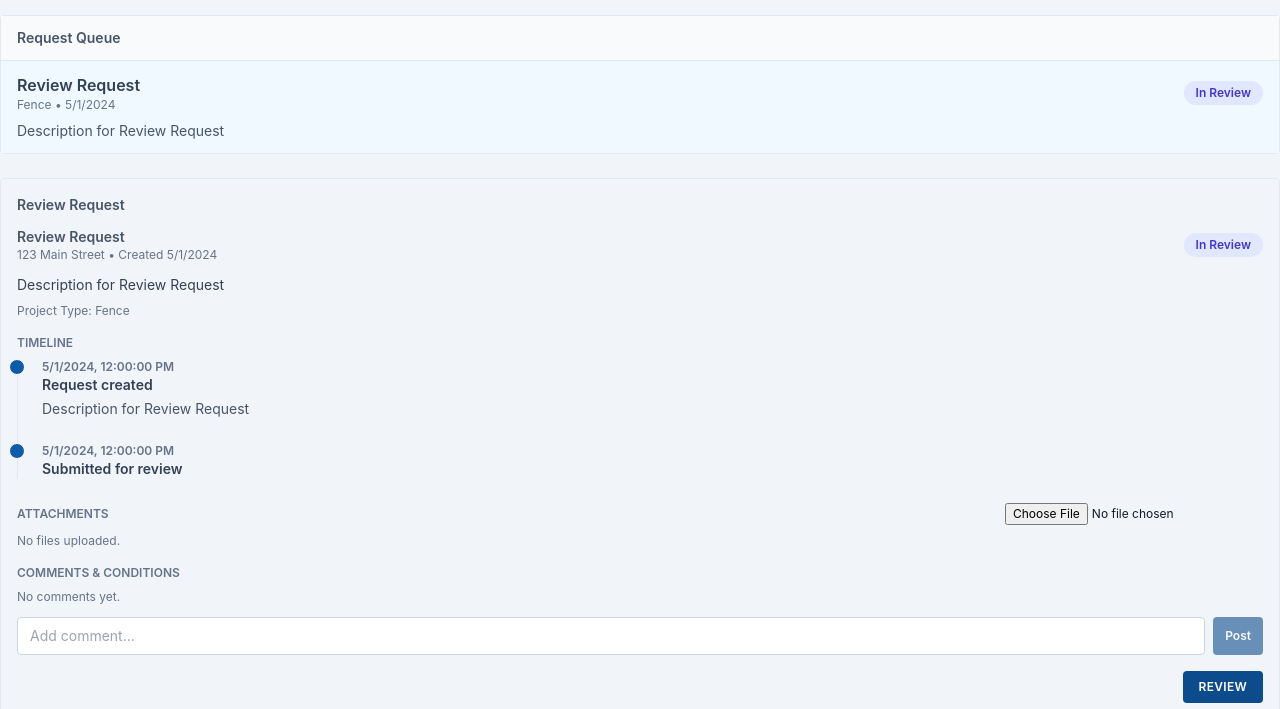
Test case: ARCPage › shows reviewer notes after a board member clicks review
The width and height of the screenshot is (1280, 709).
(page scrolled)
Expected: the text "Reviewer Notes" is not shown
Step 1. Click the button "Review" → (1223, 687), box left=1182, top=671, right=1263, bottom=703
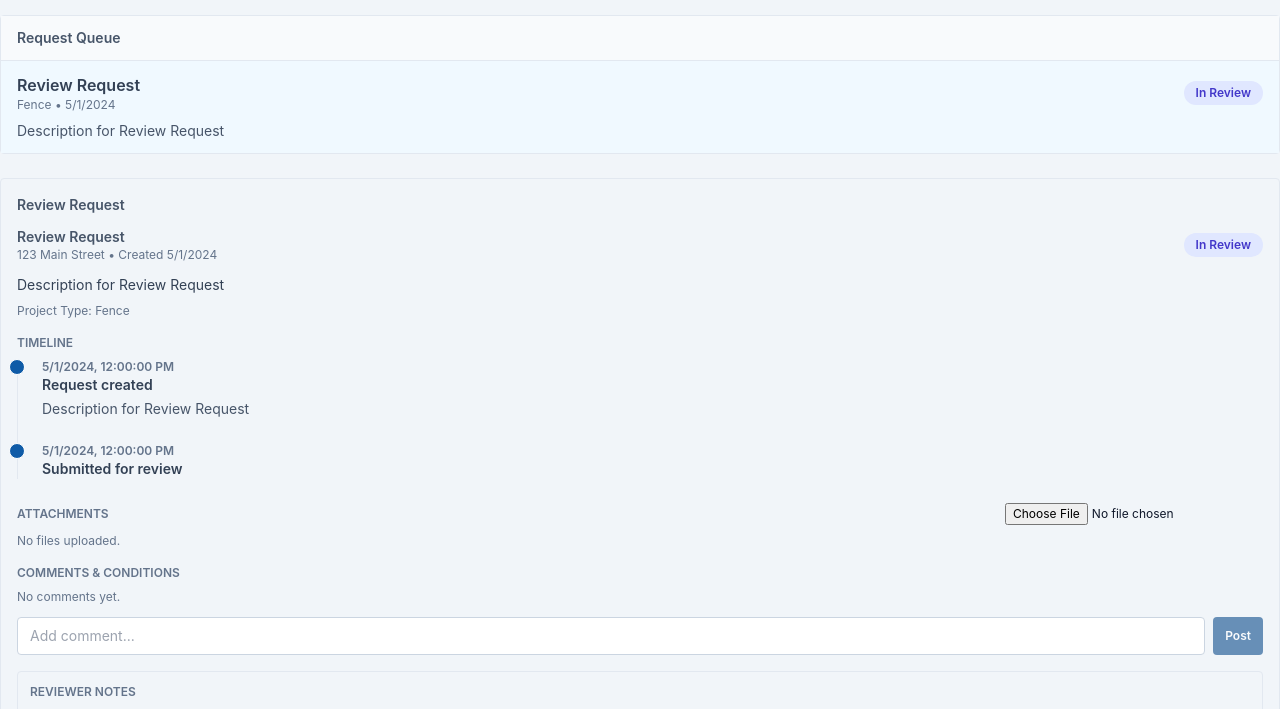
Expected: the heading "Reviewer Notes" is shown, left=30, top=684, right=136, bottom=699
